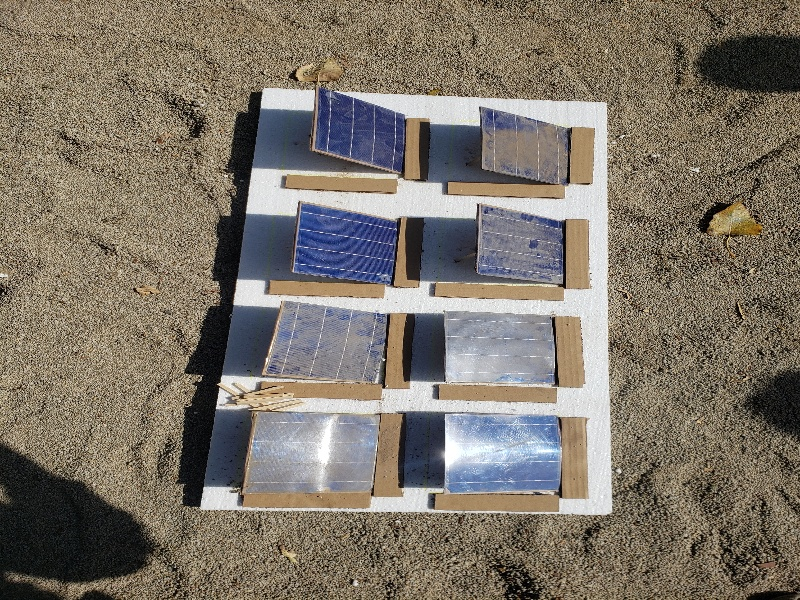clean: (298, 202, 401, 284)
dirty: (258, 298, 385, 385), (249, 414, 381, 497), (440, 314, 561, 387), (476, 202, 572, 289), (480, 107, 568, 184)
semi: (311, 84, 406, 178)
